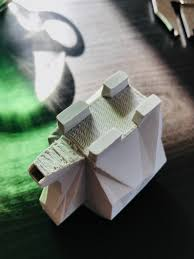fail: (30, 133, 86, 170)
